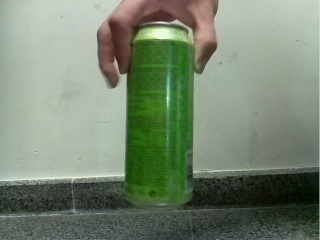botella plastico: (124, 21, 195, 209)
